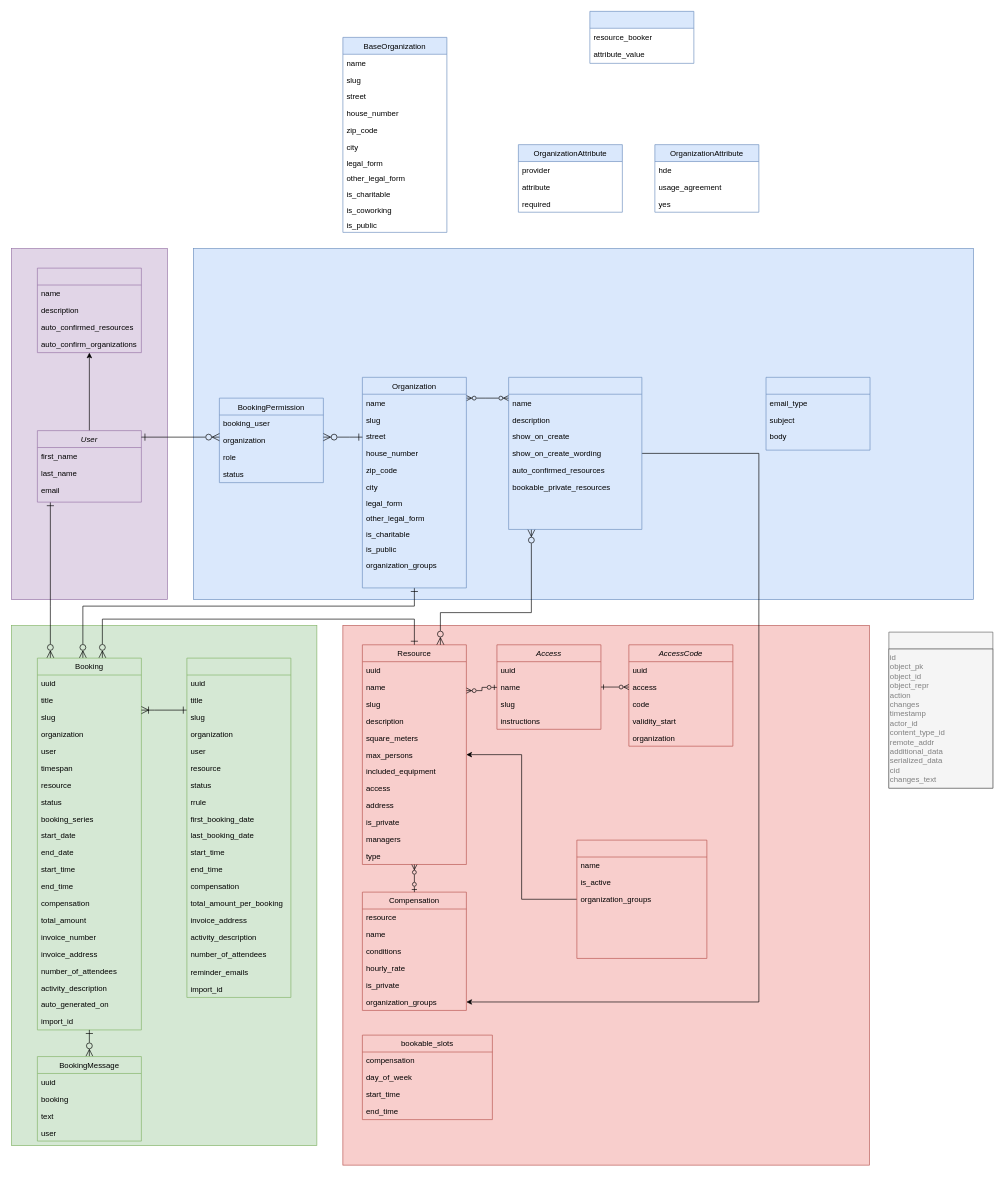
Some shapes in this 1004 by 1177 pixel diagram are drawn without their labels. Here are the shapes that lost their labels. From the top down, the box of each, then its label:
(589, 11, 694, 63): OrganizationValue
(37, 267, 141, 353): UserGroup
(765, 377, 870, 450): EmailTemplate
(508, 377, 642, 529): OrganizationGroup
(888, 631, 993, 788): auditlog_logentry
(186, 657, 291, 997): BookingSeries
(576, 839, 707, 958): schedule
